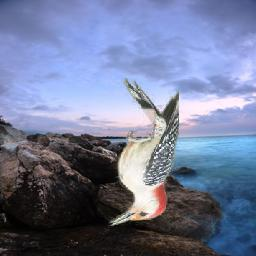Woodpecker: (105, 78, 179, 226)
